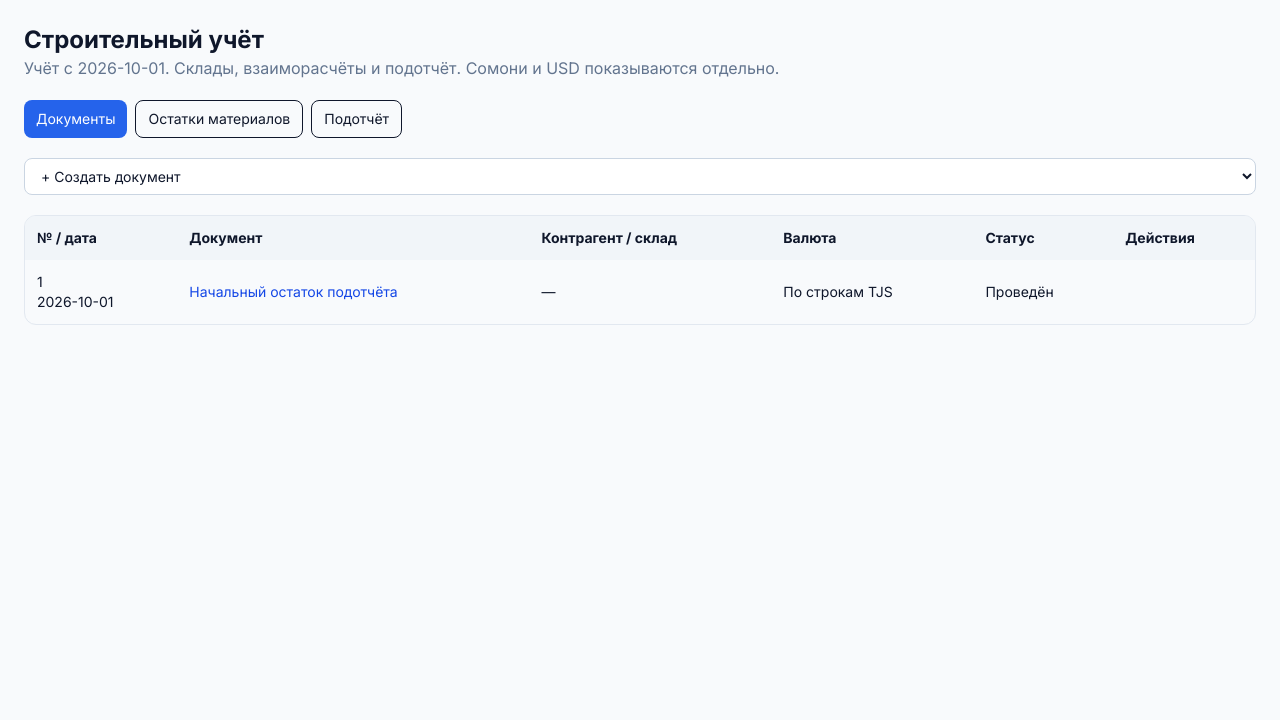
it: Construction page workflows › shows opening balance on the first day as opening, not a new period advance
Check: the heading "Строительный учёт" is shown, box [24,25,264,54]
Click the button "Подотчёт" at (357,119), box [311,100,402,138]
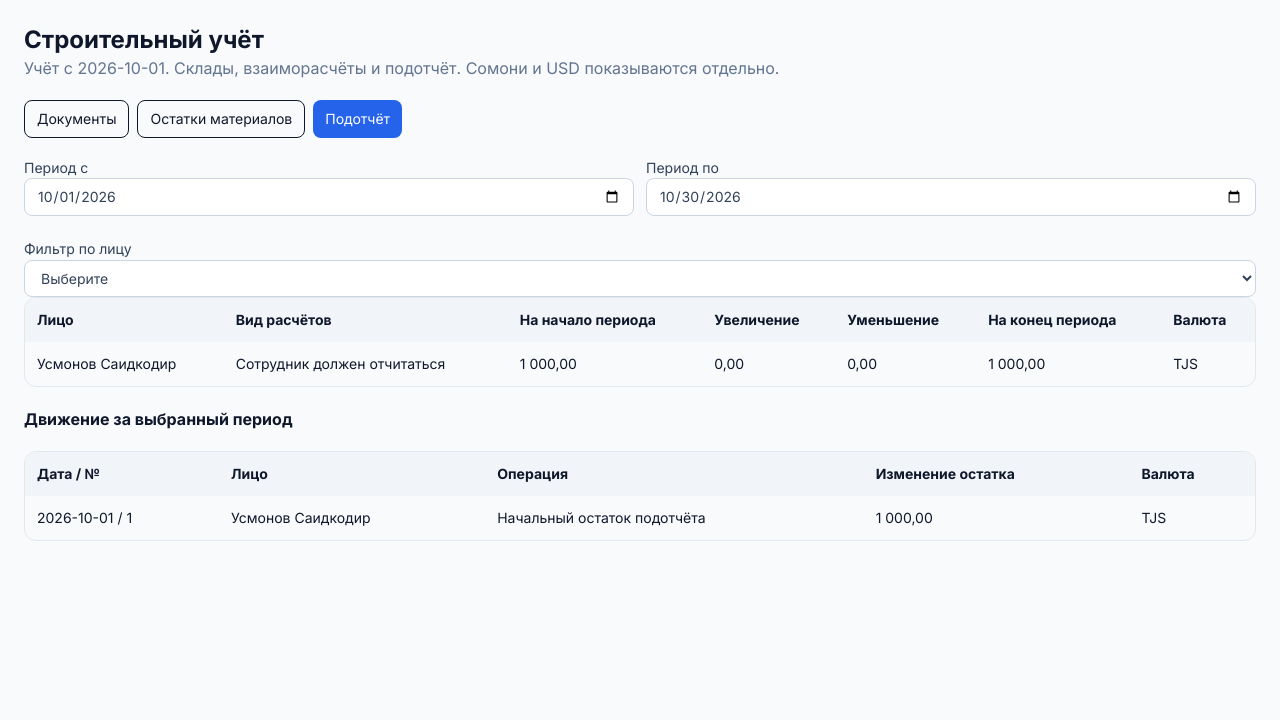
Check: the 1st cell "0,00" is shown, box [702,342,835,386]
